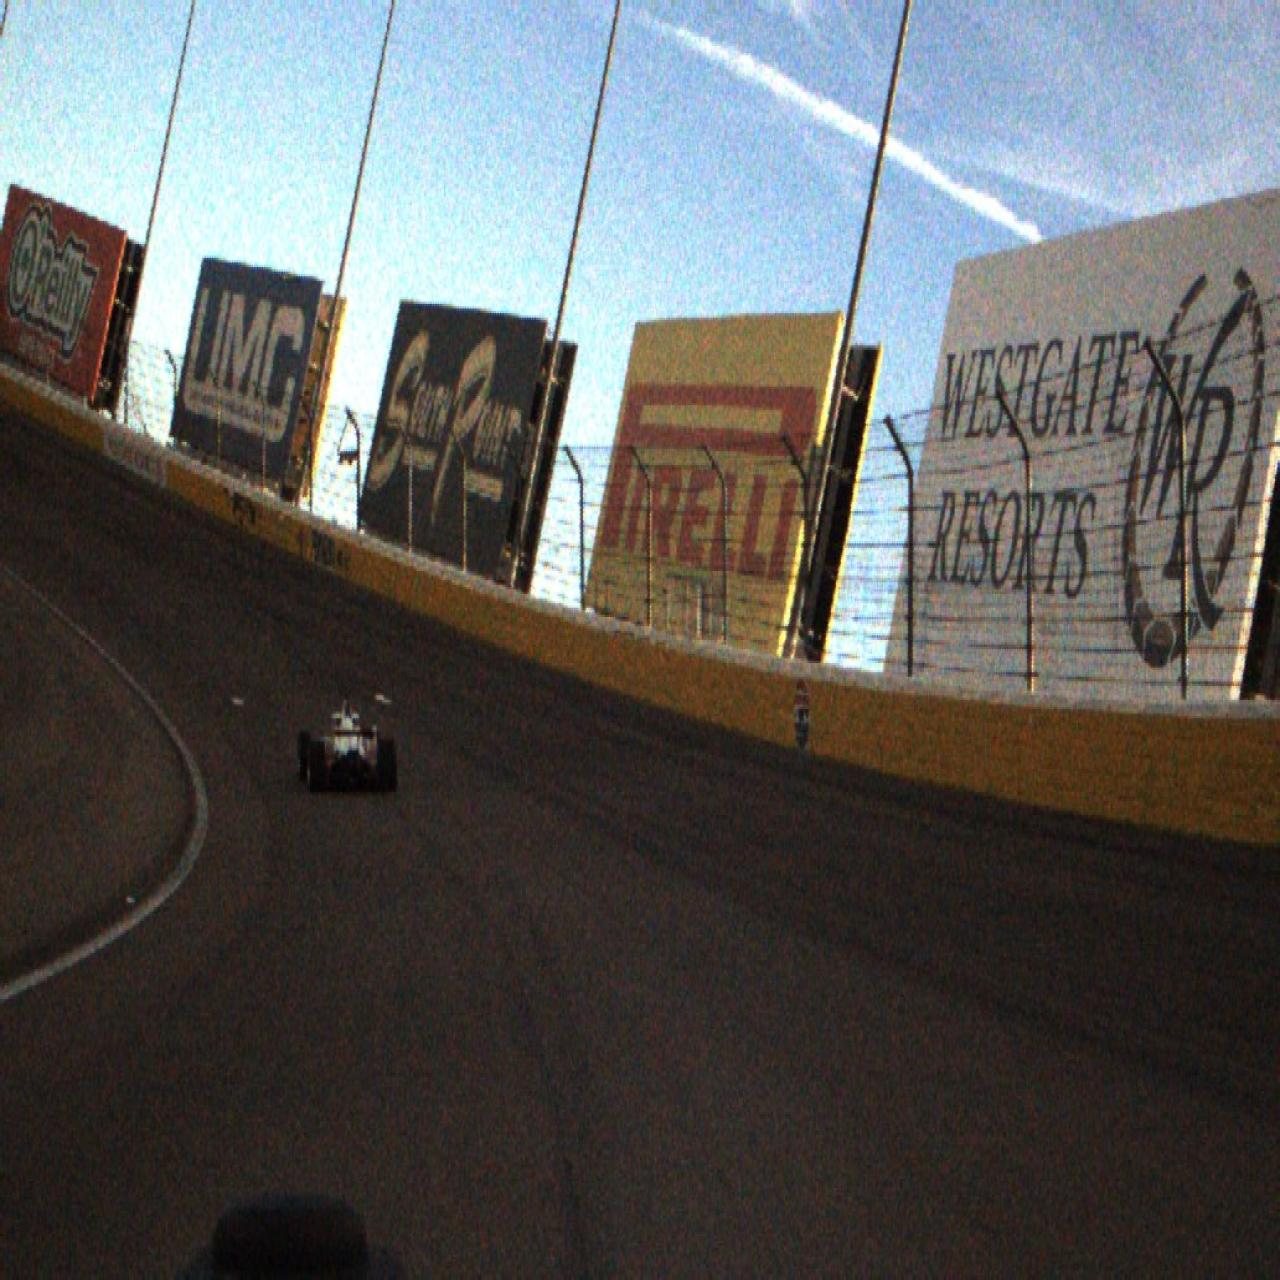AV: (298, 694, 397, 795)
Wheel: (379, 738, 397, 794), (307, 741, 326, 794), (298, 731, 311, 785)
